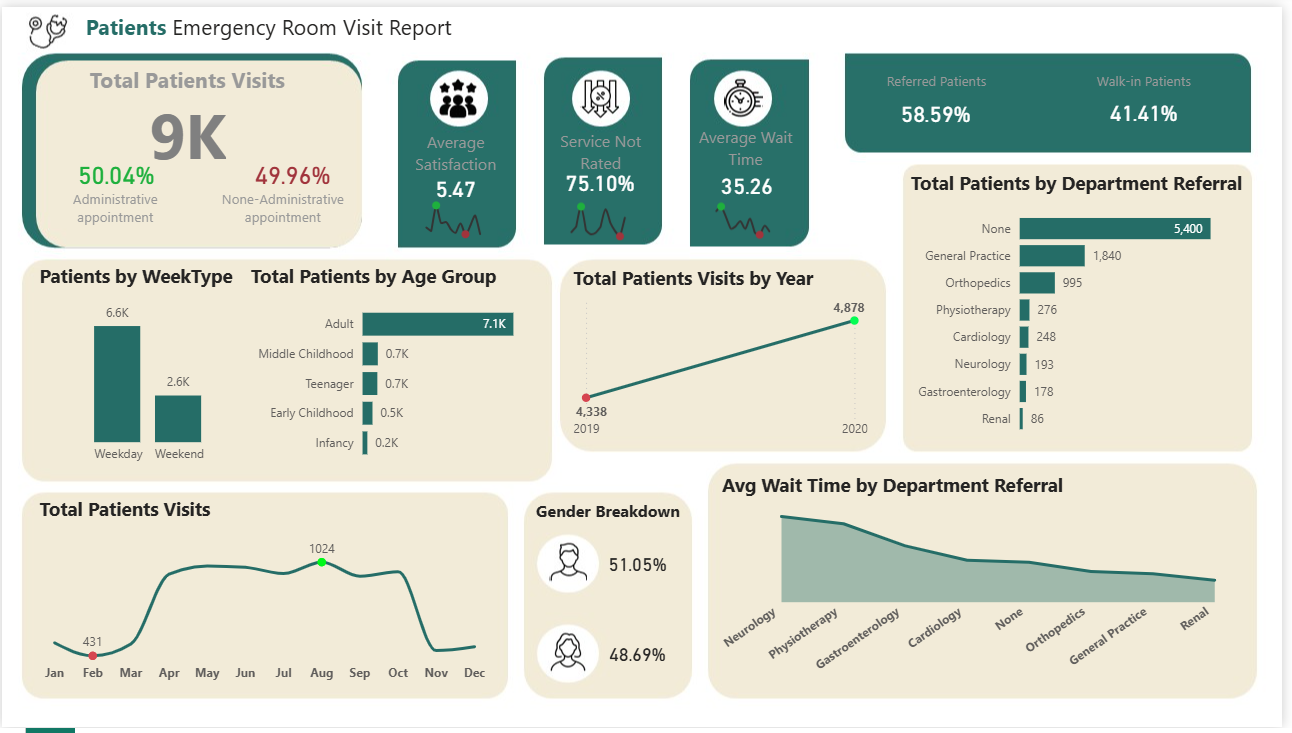

Layout of this report page (visuals, bound fields, positions):
{"tool":"powerbi","page":{"name":"Page 1","canvas":[1280,720],"ordinal":0},"visuals":[{"type":"cardVisual","fields":{"Data":["Calculations.Total Patients"]},"box":[51.5,58.9,269.9,114.1],"z":0},{"type":"cardVisual","fields":{"Data":["Calculations.% None Administrative Schedule"]},"box":[227.1,126.4,126.4,77.1],"z":1000},{"type":"cardVisual","fields":{"Data":["Calculations.% Administrative Schedule"]},"box":[51.4,126.4,125.7,77.1],"z":2000},{"type":"barChart","fields":{"Category":["Patients dataset.Age Group"],"Y":["Calculations.Total Patients"]},"box":[244,256,294,209],"z":3000},{"type":"lineChart","title":"Total Patients Visits by Year","fields":{"Y":["Calculations.Total Patients"],"Category":["Patients dataset.Year"]},"box":[566,257,304,183],"z":4000},{"type":"lineChart","title":"Total Patients Visits","fields":{"Category":["Patients dataset.Month"],"Y":["Calculations.Total Patients","Calculations.Max value (month)"]},"box":[31.9,488.3,460.1,195.1],"z":5000},{"type":"clusteredBarChart","title":"Total Patients by Department Referral","fields":{"Category":["Patients dataset.department_referral"],"Y":["Calculations.Total Patients"]},"box":[904,163,344,276],"z":6000},{"type":"textbox","box":[40.7,182.9,144.3,74.3],"z":7000},{"type":"textbox","box":[209.3,182.9,144.3,74.3],"z":8000},{"type":"cardVisual","title":"Avg Satisfaction","fields":{"Data":["Calculations.Average Satisfaction"]},"box":[414.3,145,79.3,55.7],"z":9000},{"type":"cardVisual","title":"Service Not Rated","fields":{"Data":["Calculations.% No Rating"]},"box":[542.9,139.3,111.4,64.3],"z":10000},{"type":"cardVisual","title":"Avg Wait Time","fields":{"Data":["Calculations.Average Wait Time"]},"box":[698.9,142.2,92.2,55.6],"z":11000},{"type":"cardVisual","fields":{"Data":["Calculations.% Un Referred Patients"]},"box":[880,59,107,88],"z":12000},{"type":"cardVisual","fields":{"Data":["Calculations.% Referred Patients"]},"box":[1086,63,111,79],"z":13000},{"type":"textbox","box":[1070,65,144,18],"z":14000},{"type":"textbox","box":[862,65,144,24],"z":15000},{"type":"clusteredColumnChart","title":"Patients by WeekType","fields":{"Category":["Patients dataset.WeekType"],"Y":["Calculations.Total Patients"]},"box":[33,256,229,209],"z":16000},{"type":"areaChart","title":"Avg Wait Time by Department Referral","fields":{"Category":["Patients dataset.department_referral"],"Y":["Calculations.Average Wait Time"]},"box":[715.3,465,527.6,218.4],"z":17000},{"type":"cardVisual","fields":{"Data":["Calculations.% Female"]},"box":[588,611,96,65],"z":18000},{"type":"cardVisual","fields":{"Data":["Calculations.% Male"]},"box":[588,522,96,59],"z":19000},{"type":"textbox","box":[72.1,57.1,225.7,34.3],"z":20000},{"type":"PBI_CV_25997FEB_F466_44FA_B562_AC4063283C4C","fields":{"measure":["Calculations.Average Satisfaction"],"axis":["Patients dataset.Month"]},"box":[406.4,180.7,94.3,57.1],"z":21000},{"type":"PBI_CV_25997FEB_F466_44FA_B562_AC4063283C4C","fields":{"axis":["Patients dataset.Month"],"measure":["Calculations.% No Rating"]},"box":[551.4,182.9,94.3,57.9],"z":22000},{"type":"PBI_CV_25997FEB_F466_44FA_B562_AC4063283C4C","fields":{"axis":["Patients dataset.Month"],"measure":["Calculations.Average Wait Time"]},"box":[696.1,182.8,93.9,56.7],"z":23000},{"type":"textbox","box":[688.9,113.9,110,55.6],"z":24000},{"type":"textbox","box":[544.3,117.1,110,55.7],"z":25000},{"type":"textbox","box":[398.6,119.3,110,55.7],"z":26000},{"type":"textbox","box":[522,492,167,30],"z":26001},{"type":"textbox","box":[78.8,0,443.8,40],"z":26002}]}

Visuals, with their boxes in screenshot pixels (x1, y1, x2, y2), scaled from the page's 1280x720 canvas onto the 1292x733 screenshot:
cardVisual - Calculations.Total Patients: (52,60,324,176)
cardVisual - Calculations.% None Administrative Schedule: (229,129,357,207)
cardVisual - Calculations.% Administrative Schedule: (52,129,179,207)
barChart - Patients dataset.Age Group x Calculations.Total Patients: (246,261,543,473)
"Total Patients Visits by Year" lineChart: (571,262,878,448)
"Total Patients Visits" lineChart: (32,497,497,696)
"Total Patients by Department Referral" clusteredBarChart: (912,166,1260,447)
textbox: (41,186,187,262)
textbox: (211,186,357,262)
"Avg Satisfaction" cardVisual: (418,148,498,204)
"Service Not Rated" cardVisual: (548,142,660,207)
"Avg Wait Time" cardVisual: (705,145,799,201)
cardVisual - Calculations.% Un Referred Patients: (888,60,996,150)
cardVisual - Calculations.% Referred Patients: (1096,64,1208,145)
textbox: (1080,66,1225,84)
textbox: (870,66,1015,91)
"Patients by WeekType" clusteredColumnChart: (33,261,264,473)
"Avg Wait Time by Department Referral" areaChart: (722,473,1255,696)
cardVisual - Calculations.% Female: (594,622,690,688)
cardVisual - Calculations.% Male: (594,531,690,591)
textbox: (73,58,301,93)
PBI_CV_25997FEB_F466_44FA_B562_AC4063283C4C - Calculations.Average Satisfaction x Patients dataset.Month: (410,184,505,242)
PBI_CV_25997FEB_F466_44FA_B562_AC4063283C4C - Patients dataset.Month x Calculations.% No Rating: (557,186,652,245)
PBI_CV_25997FEB_F466_44FA_B562_AC4063283C4C - Patients dataset.Month x Calculations.Average Wait Time: (703,186,797,244)
textbox: (695,116,806,173)
textbox: (549,119,660,176)
textbox: (402,121,513,178)
textbox: (527,501,695,531)
textbox: (80,0,527,41)
